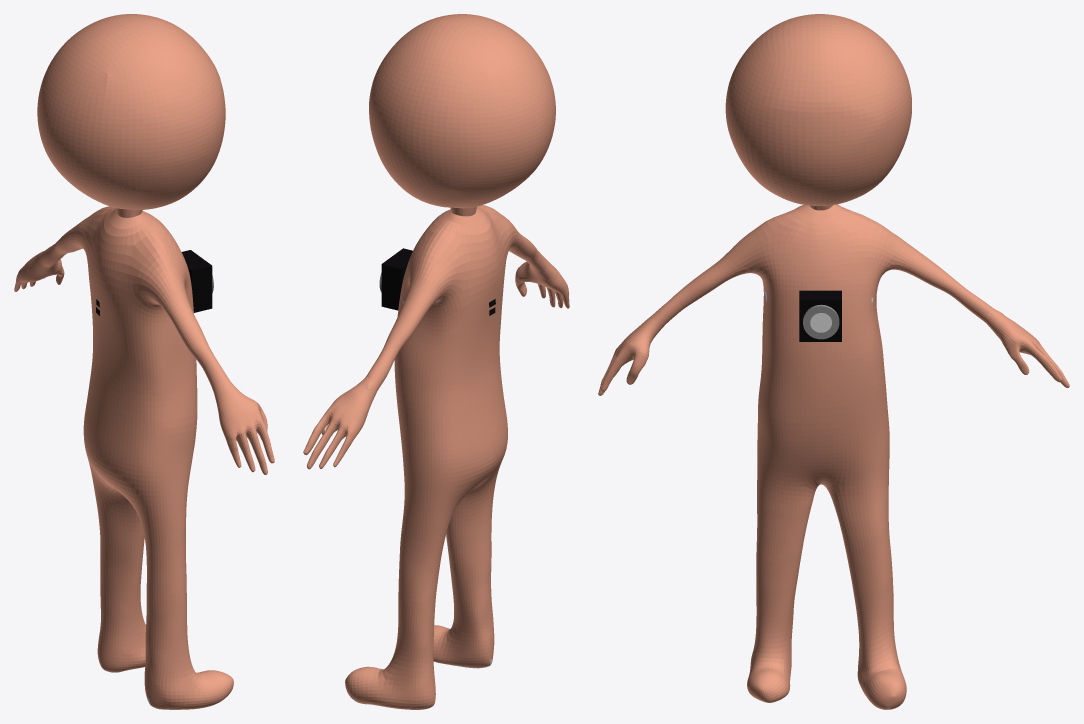
The model's file is manCamera.glb.
3 renders of one model, left to right at view 1: azimuth 30°, elevation 25°; view 2: azimuth 150°, elevation 25°; view 3: azimuth 270°, elevation 25°, orthographic. The views are drawn at different scales.
Visible parts, largest first — view 1: stickman, 相機本體; view 2: stickman, 相機本體; view 3: stickman, 相機本體.
Boxes of the visible parts, <box> form: stickman: <box>14,14,274,709</box>; 相機本體: <box>181,250,212,312</box>; stickman: <box>303,14,569,709</box>; 相機本體: <box>381,248,412,310</box>; stickman: <box>598,14,1069,709</box>; 相機本體: <box>799,290,841,341</box>.
Size of the model in its own units: 7.97 by 31.52 by 20.54.
